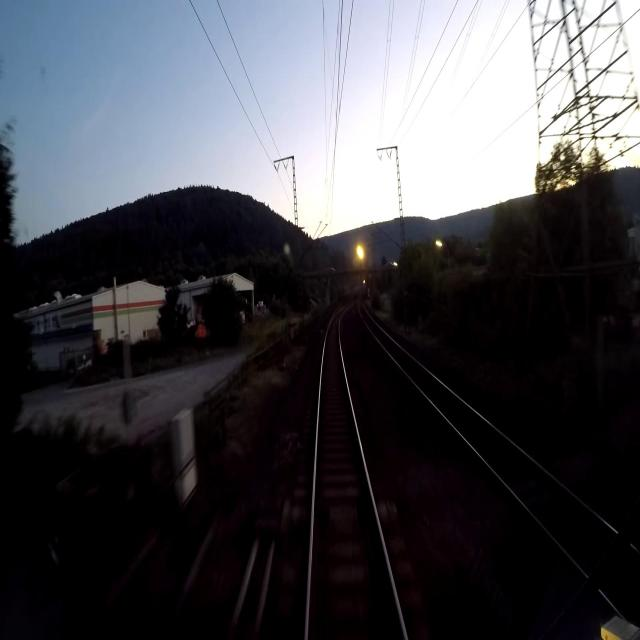rail-track: (359, 302, 610, 568), (309, 314, 403, 639)
